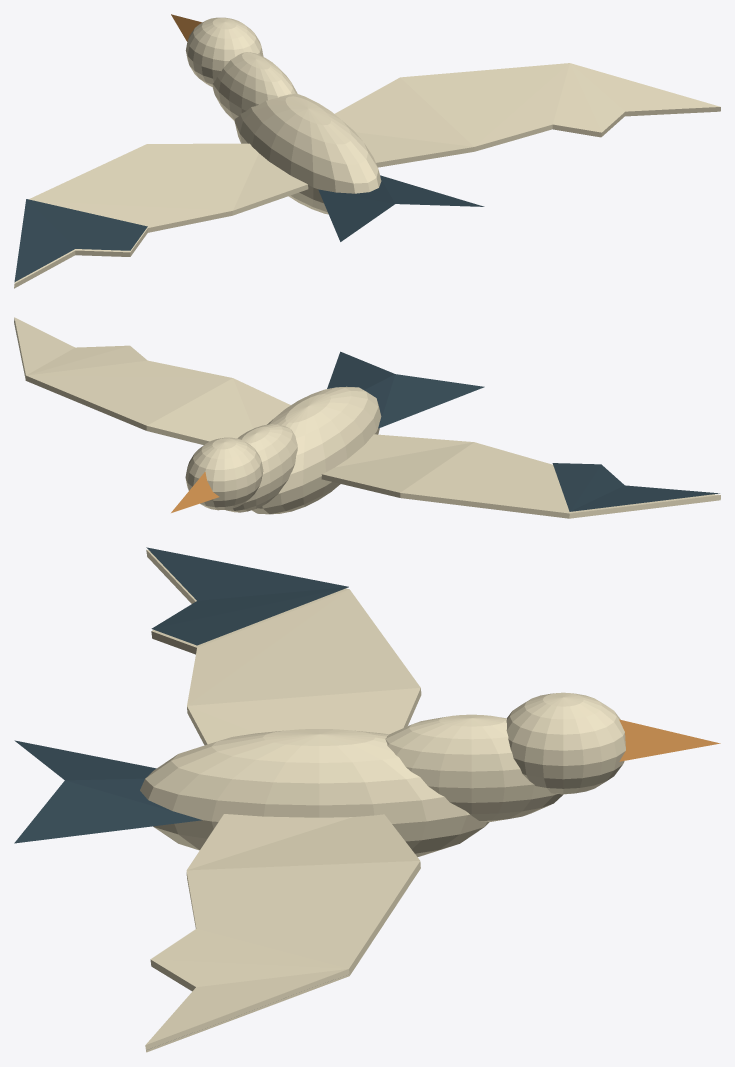
The model's file is sky_bird.glb.
3 views of the same model, one above another, from view 1: azimuth 30°, elevation 25°; view 2: azimuth 150°, elevation 25°; view 3: azimuth 270°, elevation 25° (orthographic). The views are drawn at different scales.
Visible parts, largest first — view 1: BirdIvory.002, BirdIvory, BirdIvory.001, BirdSlate.001, BirdSlate; view 2: BirdIvory.002, BirdIvory, BirdIvory.001, BirdSlate, BirdSlate.001, BirdBeak; view 3: BirdIvory, BirdIvory.002, BirdIvory.001, BirdSlate, BirdSlate.001, BirdBeak.
Boxes of the visible parts, <box> form: BirdIvory.002: <box>335,63,720,167</box>; BirdIvory: <box>185,17,381,214</box>; BirdIvory.001: <box>14,143,308,288</box>; BirdSlate.001: <box>14,199,147,282</box>; BirdSlate: <box>318,175,484,241</box>; BirdIvory.002: <box>14,317,290,444</box>; BirdIvory: <box>185,386,381,514</box>; BirdIvory.001: <box>321,434,720,518</box>; BirdSlate: <box>327,351,484,428</box>; BirdSlate.001: <box>552,463,719,511</box>; BirdBeak: <box>171,472,219,512</box>; BirdIvory: <box>140,692,625,856</box>; BirdIvory.002: <box>145,814,420,1052</box>; BirdIvory.001: <box>146,549,421,745</box>; BirdSlate: <box>14,740,201,843</box>; BirdSlate.001: <box>146,547,348,645</box>; BirdBeak: <box>619,719,720,761</box>.
Bounding box in the file's own units: 2.34 × 0.36 × 1.39.
